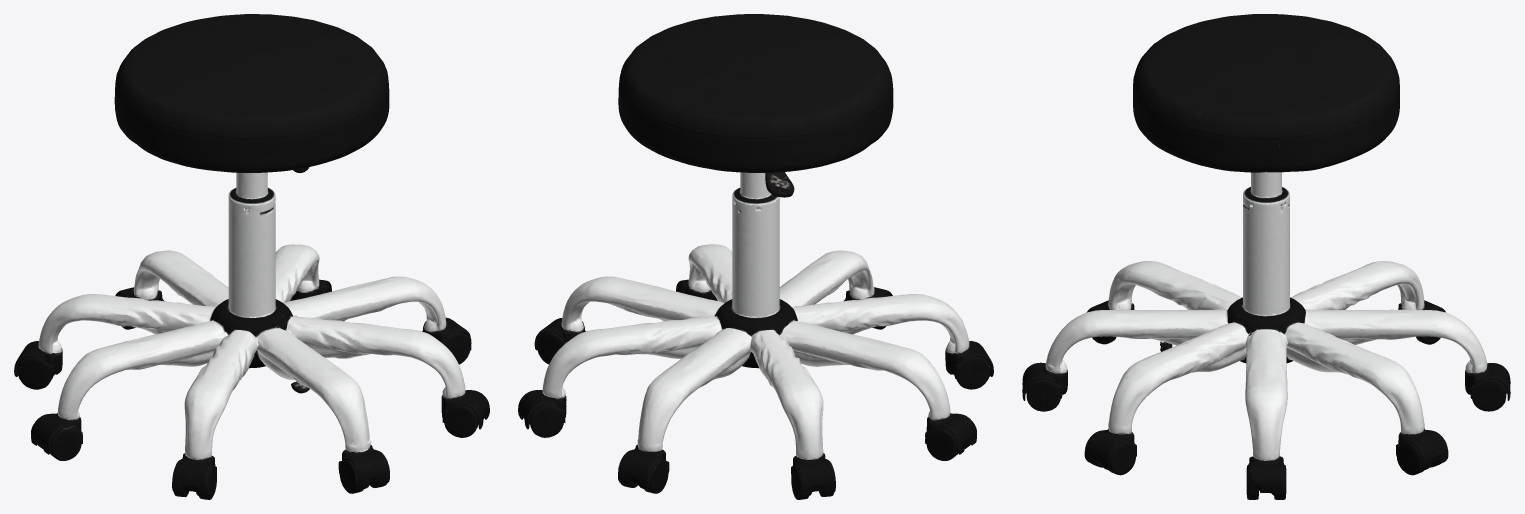
Rendered from B072Y2MRY2.glb.
3 renders of one model, left to right at view 1: azimuth 30°, elevation 25°; view 2: azimuth 150°, elevation 25°; view 3: azimuth 270°, elevation 25°, orthographic.
Parts seen in each view (by area): view 1: geometry_0; view 2: geometry_0; view 3: geometry_0.
Part boxes in pixels (<box>): geometry_0: <box>14,14,489,499</box>; geometry_0: <box>518,14,993,499</box>; geometry_0: <box>1022,14,1510,499</box>.
Size of the model in its own units: 0.9989 by 0.7796 by 1.
1 material, 1 textured.
